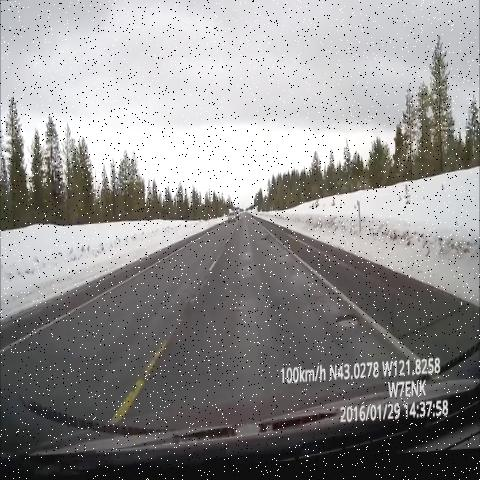pothole: (330, 318, 361, 338), (258, 231, 274, 249)
